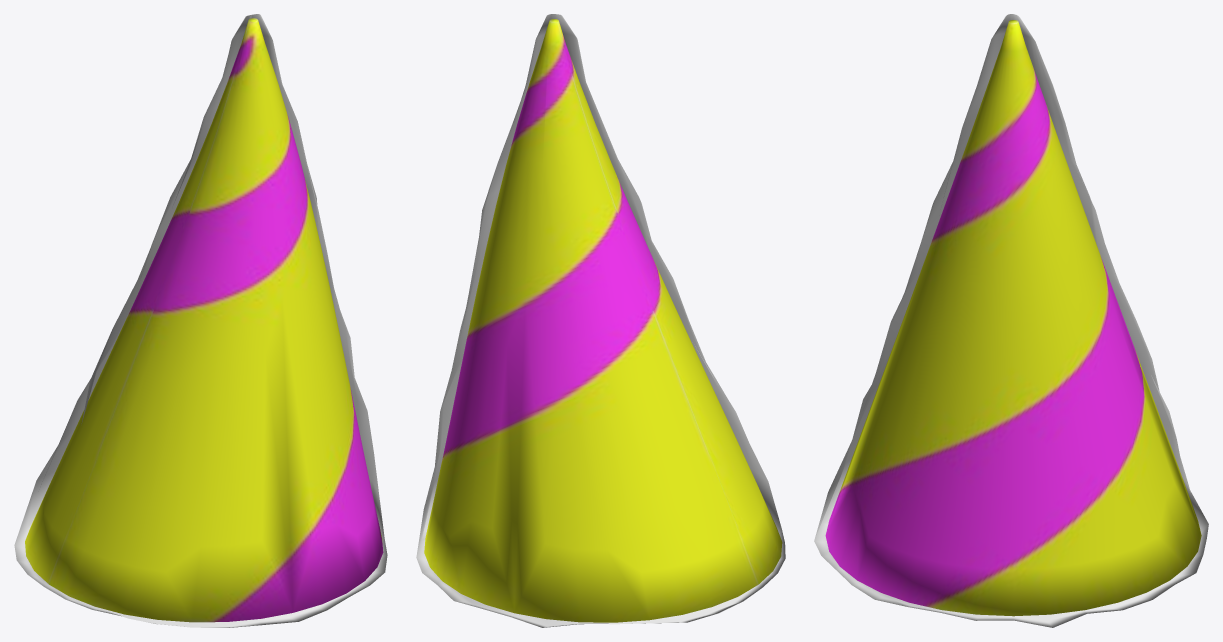
Rendered from outfit_party_hat.glb.
The picture shows the model from 3 angles, left to right: view 1: azimuth 30°, elevation 25°; view 2: azimuth 150°, elevation 25°; view 3: azimuth 270°, elevation 25°; orthographic projection. The views are drawn at different scales.
Visible parts, largest first — view 1: outfit_party_hat; view 2: outfit_party_hat; view 3: outfit_party_hat.
Part boxes in pixels (x1=…): outfit_party_hat: x1=14, y1=14, x2=387, y2=627; outfit_party_hat: x1=416, y1=14, x2=785, y2=627; outfit_party_hat: x1=814, y1=14, x2=1208, y2=627.
Size of the model in its own units: 0.1907 by 0.3 by 0.1927.
2 materials, 1 textured.
